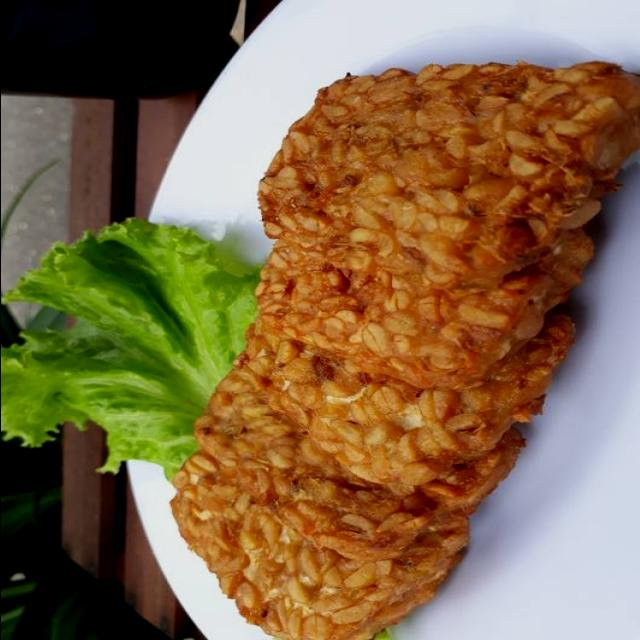tempe goreng: (248, 55, 636, 282), (153, 436, 461, 634), (189, 369, 517, 552), (230, 226, 586, 380), (230, 307, 534, 485)
